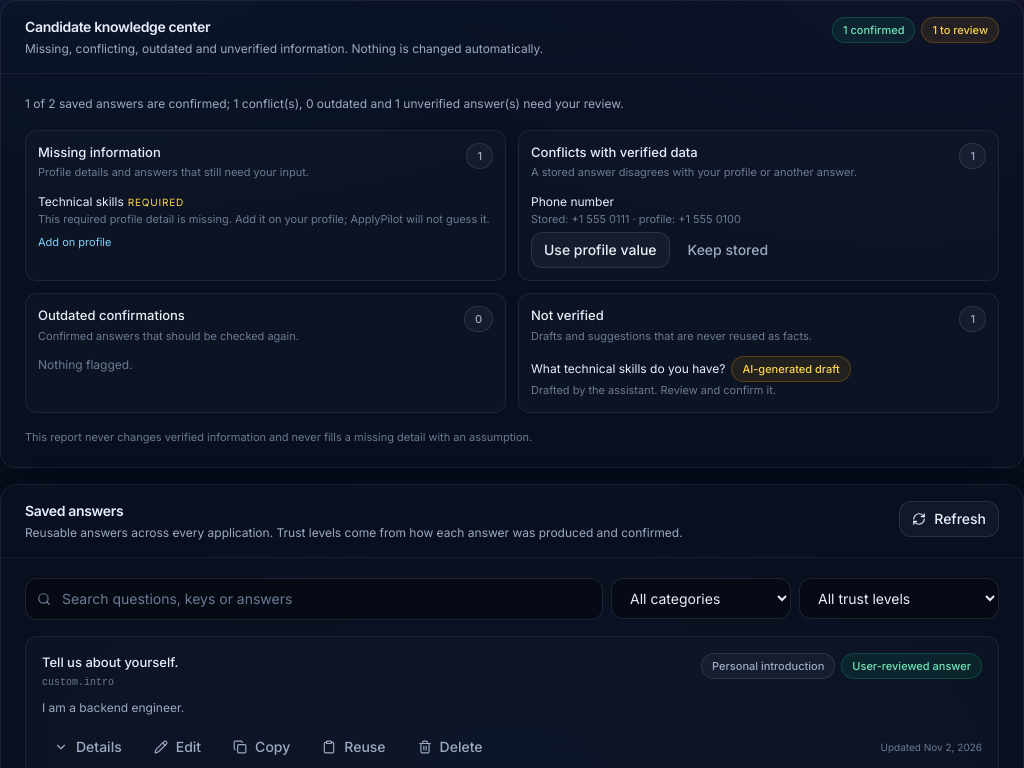
AnswerLibrary › deletes an answer only after an explicit confirmation
This screenshot has width=1024, height=768.
Expected: the text "Tell us about yourself." is shown, [42,653,178,673]
Step 1. Click the button "Delete" → (450, 747), box [406,729,494,765]
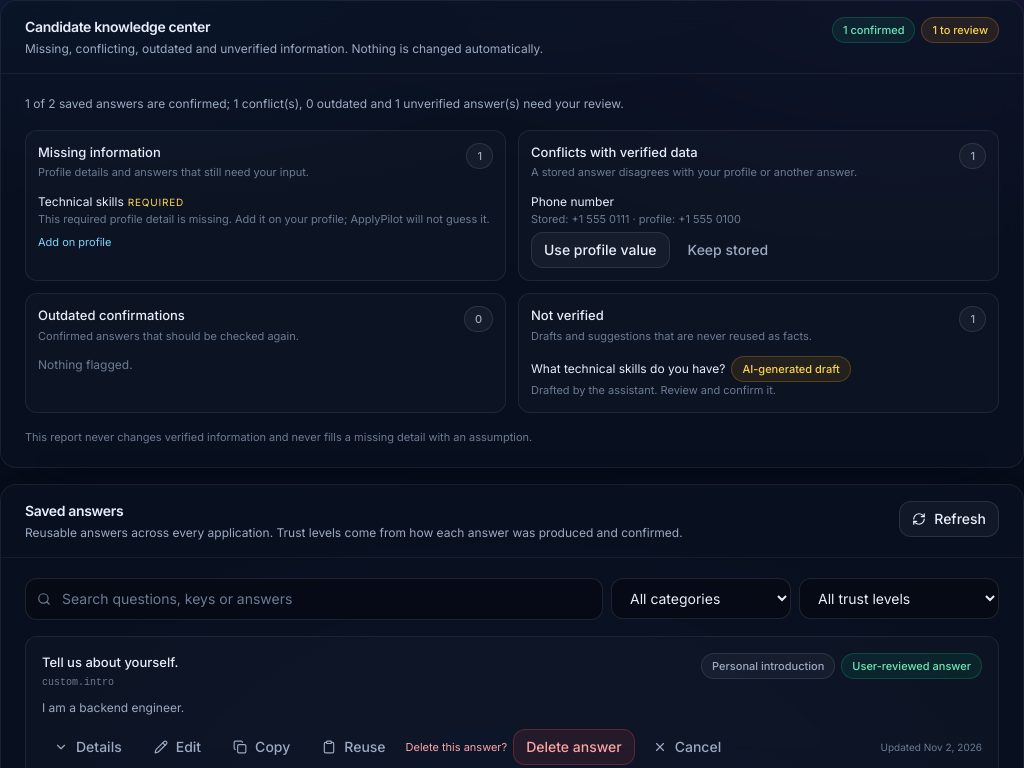
Result: the text "Delete this answer?" is shown at [406,739,507,755]
Step 2. Click the button "Delete answer" → (574, 747), box [513,729,635,765]
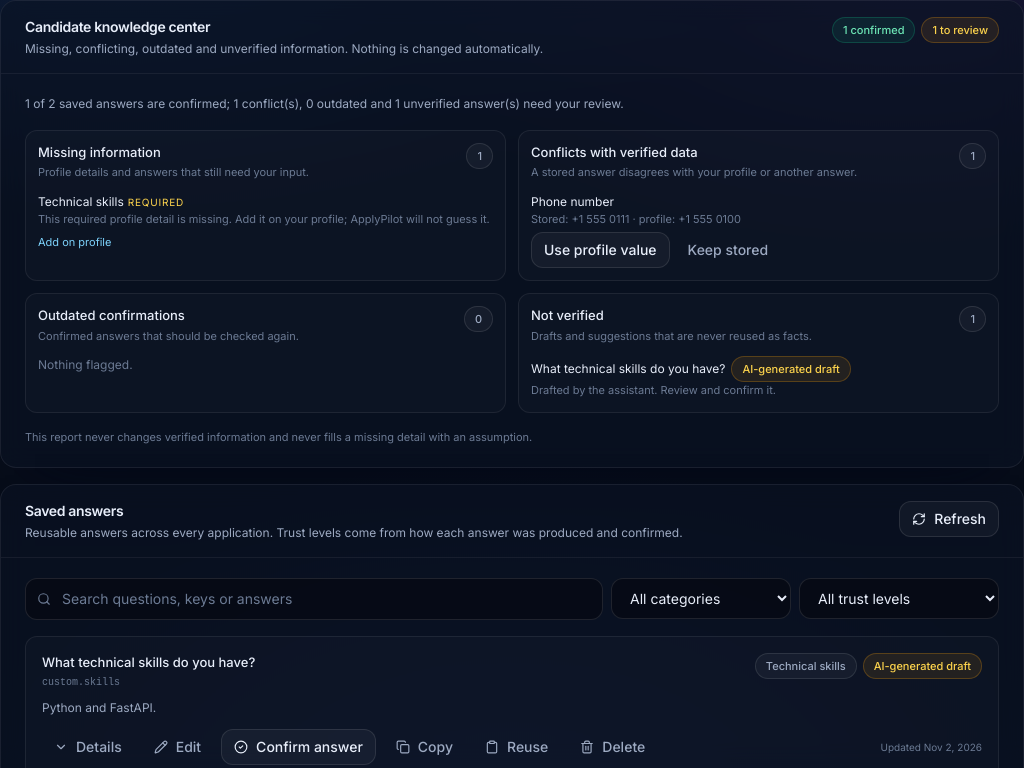
Result: the text "Tell us about yourself." is gone
